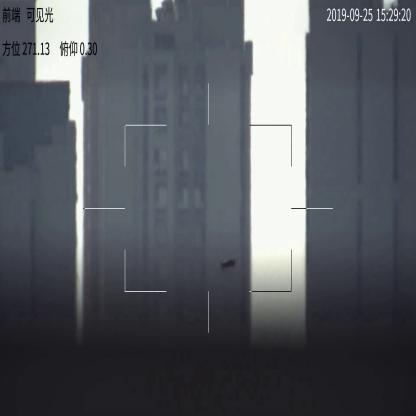uav: (220, 258, 236, 272)
